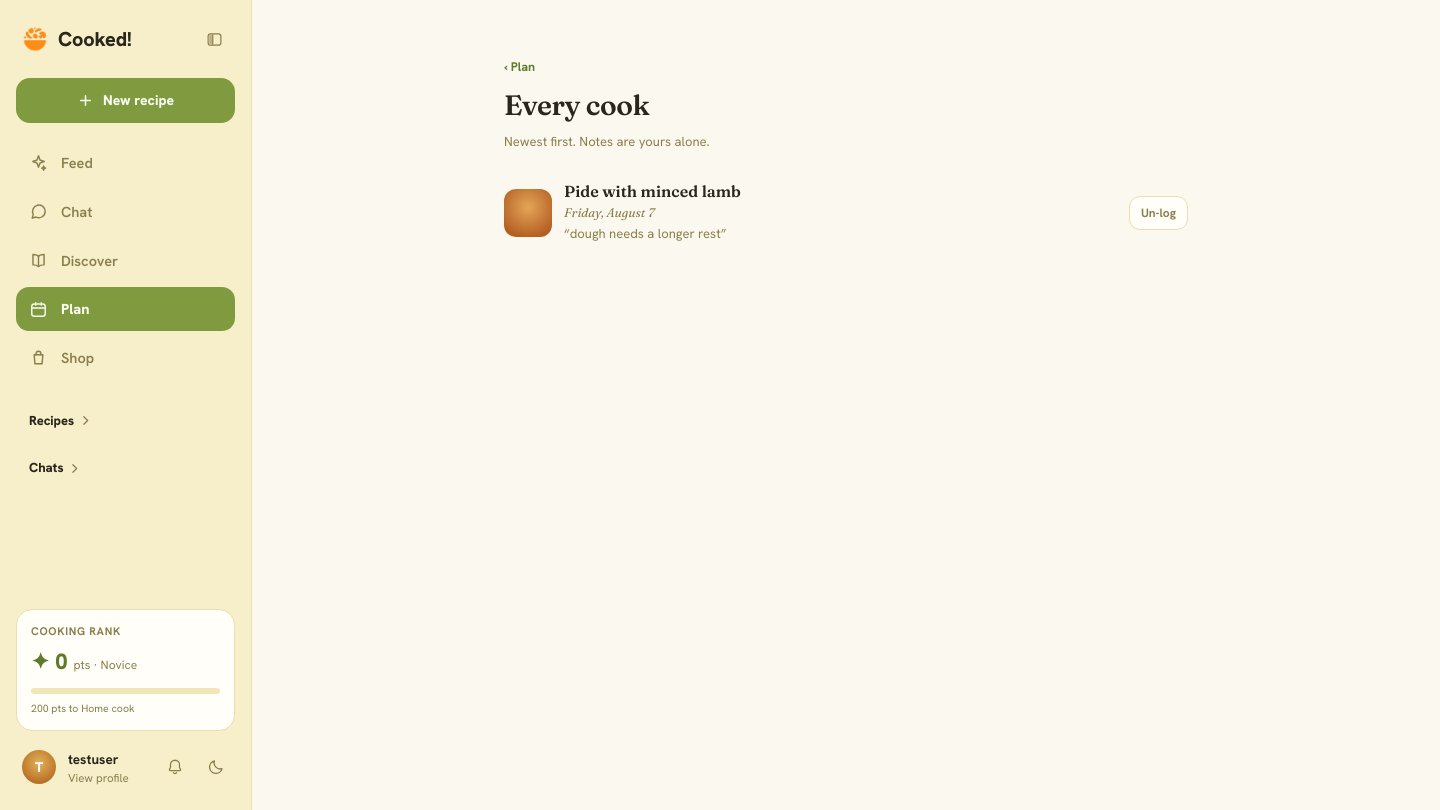
/plan/cooks › un-logging one cook › asks first when the cook carries a note, and keeping it writes nothing
Click the button with aria-label "Un-log Pide".
click(1158, 213)  # box x1=1129 y1=196 x2=1188 y2=230
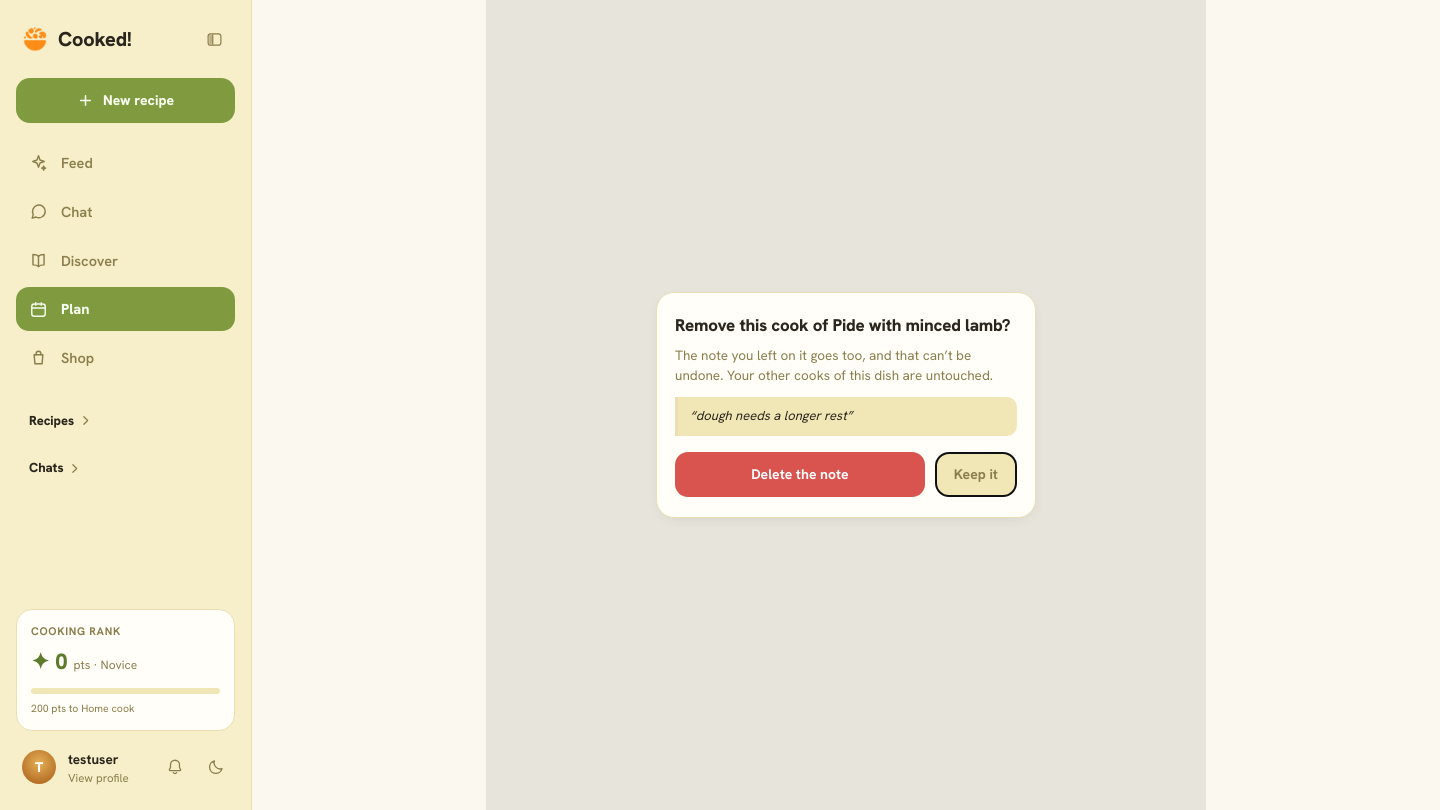
Now the dialog shows "dough needs a longer rest", box x1=696 y1=407 x2=847 y2=424
Now the dialog shows "Pide with minced lamb", box x1=832 y1=314 x2=1002 y2=336
Click the button "Keep it".
click(976, 474)  # box x1=935 y1=452 x2=1017 y2=497
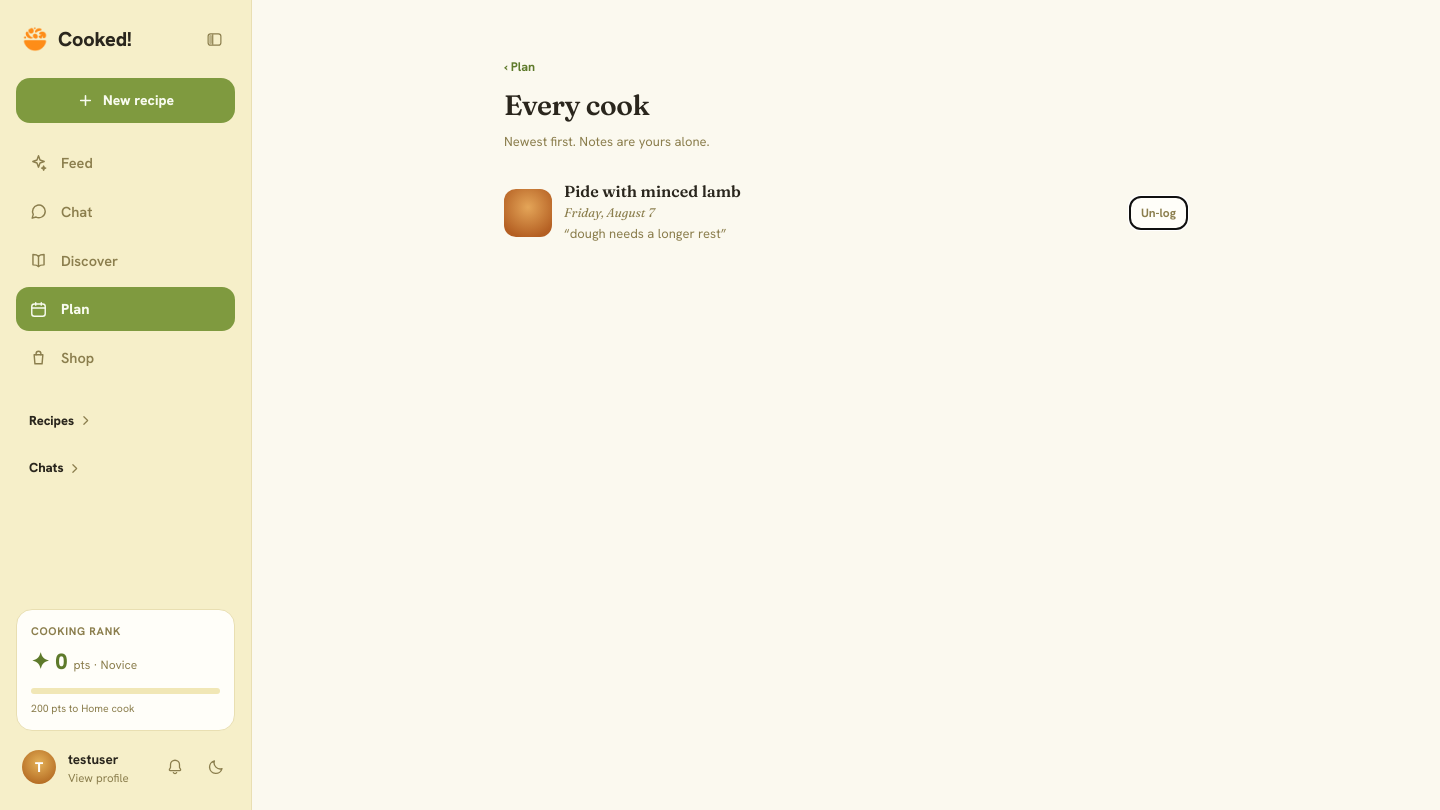
Now the dialog is gone
